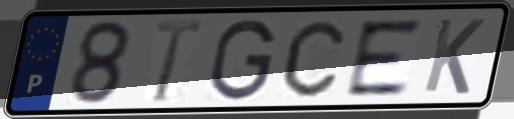8: (66, 18, 133, 107)
C: (280, 18, 348, 100)
E: (344, 16, 426, 100)
G: (206, 16, 278, 103)
K: (419, 15, 488, 97)
T: (149, 17, 205, 105)
